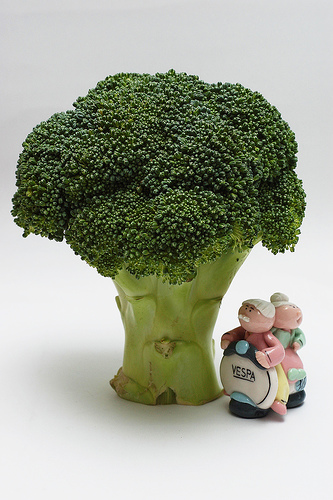broccoli: (8, 68, 305, 407)
